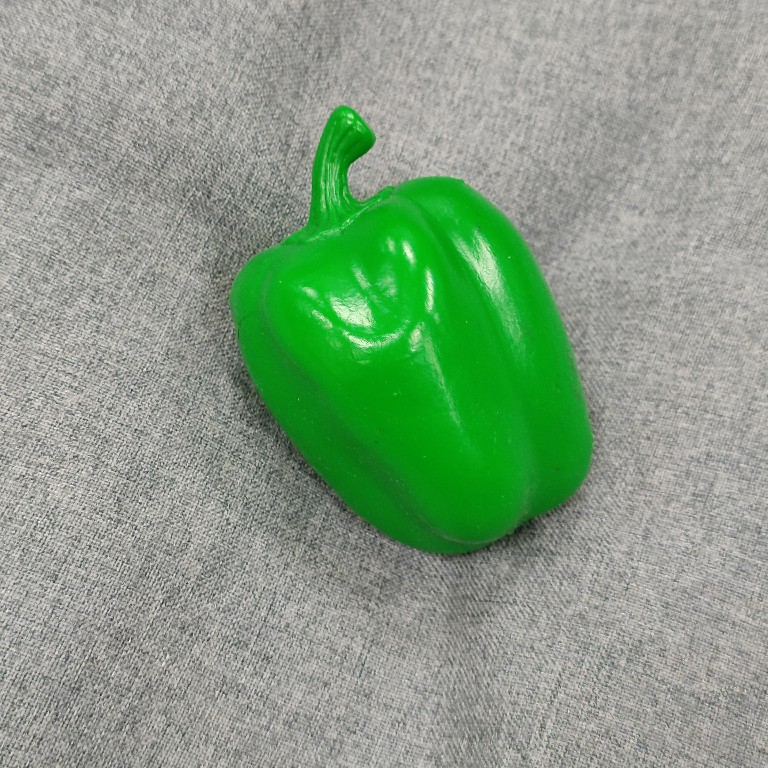fruit_pepper: (225, 101, 599, 563)
